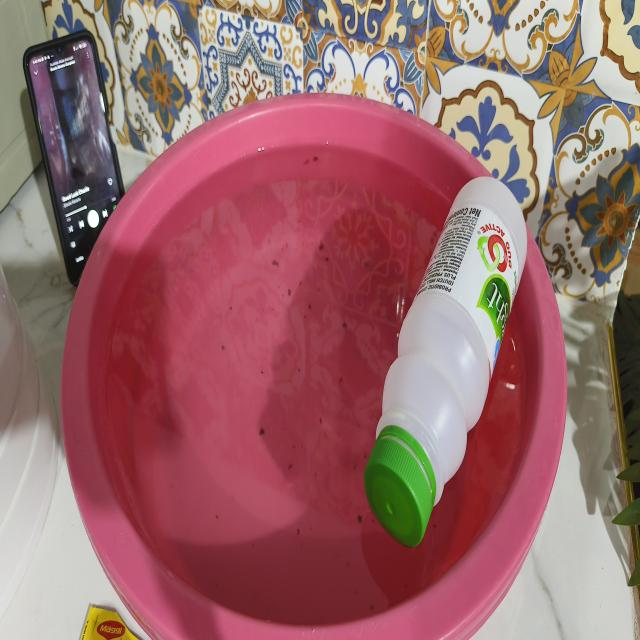Plastic Bottle: (365, 177, 527, 547)
